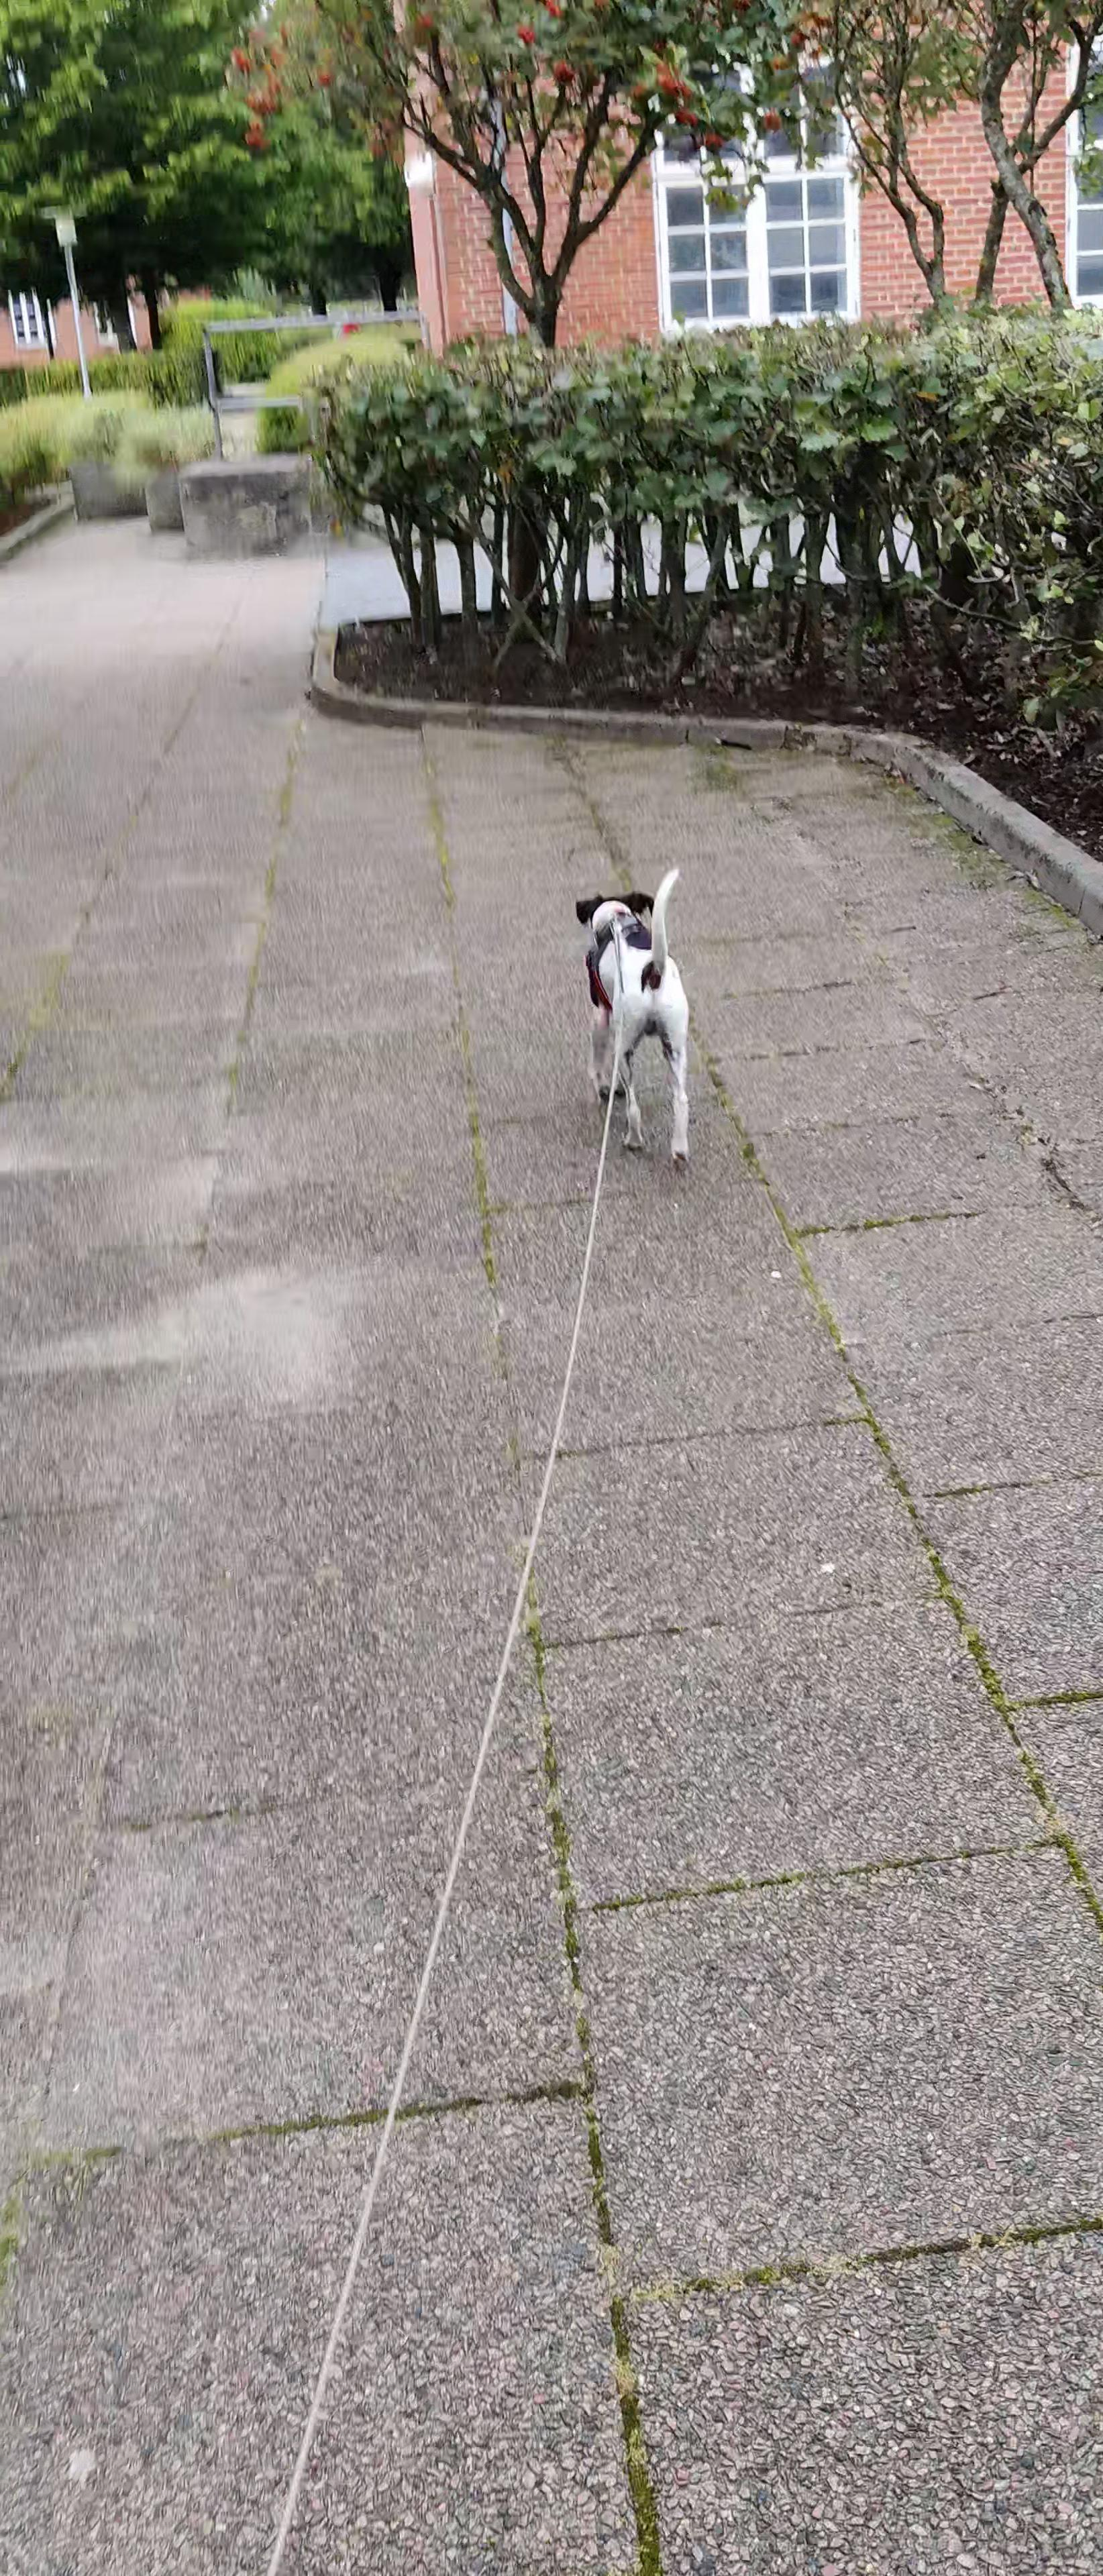Dog: (570, 864, 695, 1175)
